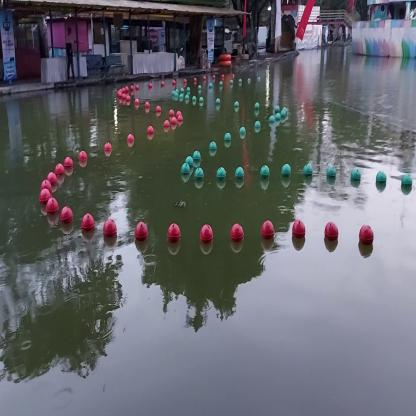green_buoy: (375, 170, 387, 182), (259, 163, 270, 176), (402, 172, 412, 186), (302, 162, 312, 175), (351, 167, 361, 180), (180, 162, 190, 174), (216, 166, 226, 178), (327, 164, 336, 177), (281, 164, 291, 175), (194, 167, 204, 178), (235, 166, 244, 178), (185, 155, 193, 165), (209, 140, 216, 150), (224, 132, 231, 141), (193, 150, 200, 158), (254, 120, 260, 128), (178, 114, 184, 121), (239, 126, 246, 132), (275, 112, 281, 118), (269, 116, 275, 121), (281, 110, 286, 114)
red_buoy: (358, 222, 375, 244), (133, 220, 149, 240), (199, 221, 214, 242), (102, 218, 118, 237), (59, 204, 74, 224), (261, 218, 276, 238), (324, 220, 340, 238), (82, 210, 96, 230), (291, 218, 307, 235), (230, 220, 244, 239), (166, 222, 181, 238), (46, 195, 58, 213), (38, 188, 52, 202), (46, 171, 58, 185), (41, 178, 52, 192), (63, 154, 74, 167), (55, 161, 65, 174), (104, 140, 113, 151), (79, 150, 88, 161), (127, 132, 135, 143), (147, 125, 154, 134), (171, 116, 177, 124), (164, 119, 170, 127)
